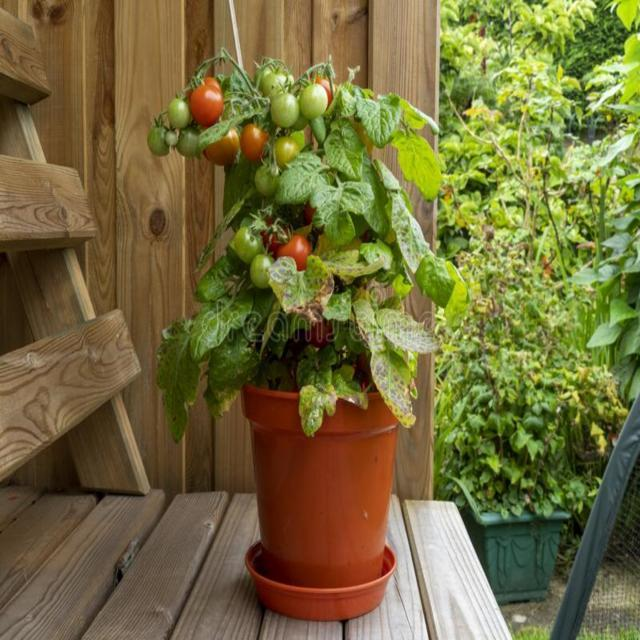plant: (435, 240, 629, 528), (439, 0, 600, 278)
tomato: (147, 48, 469, 441)
